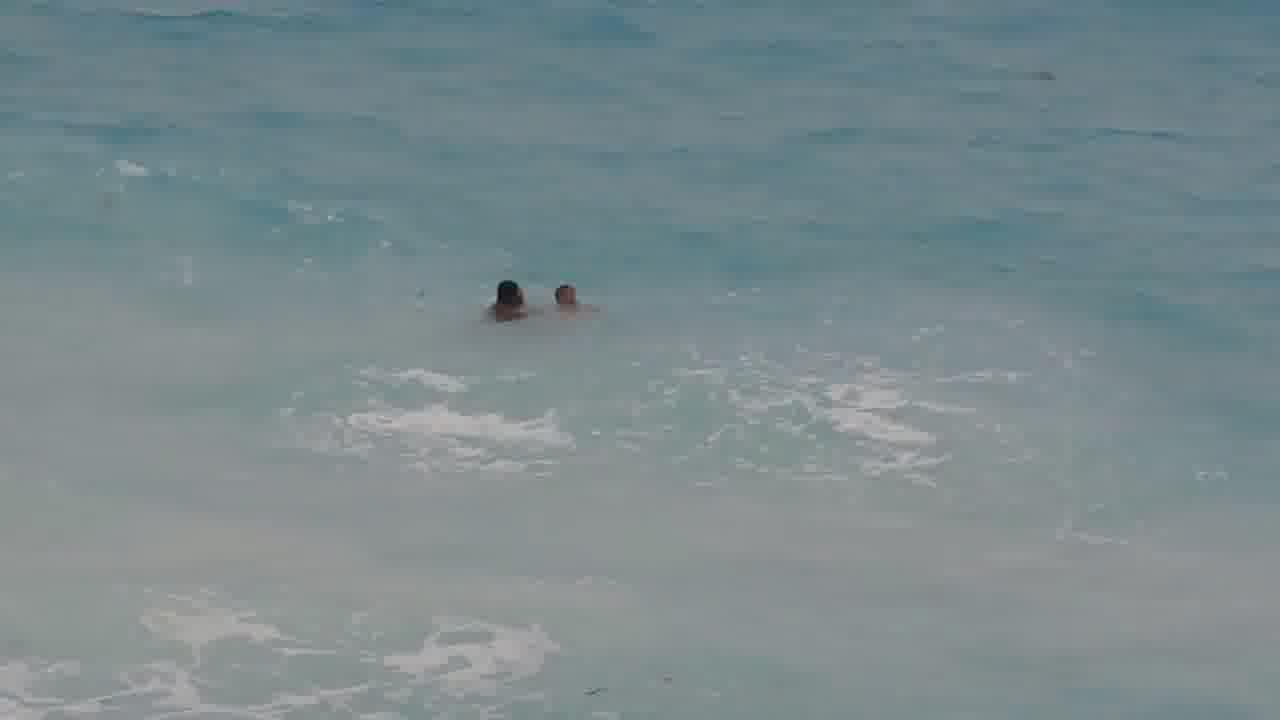swimmer: (486, 277, 539, 319), (552, 274, 584, 317)
